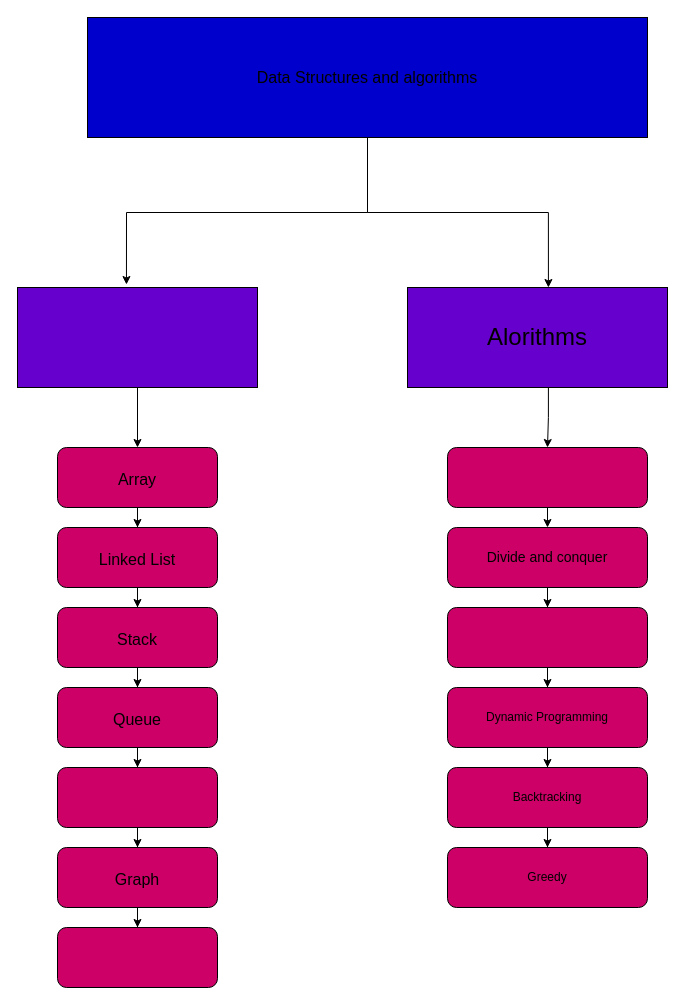
Image size: 685x1005. Some labels were removed from this diagram. Each missing label, with the centre of its shape:
"Brute Force" goes at point (547, 637).
"BST" goes at point (137, 797).
"Data Structures" goes at point (137, 337).
"Hash-map" goes at point (137, 957).
"Recursive" goes at point (547, 477).
